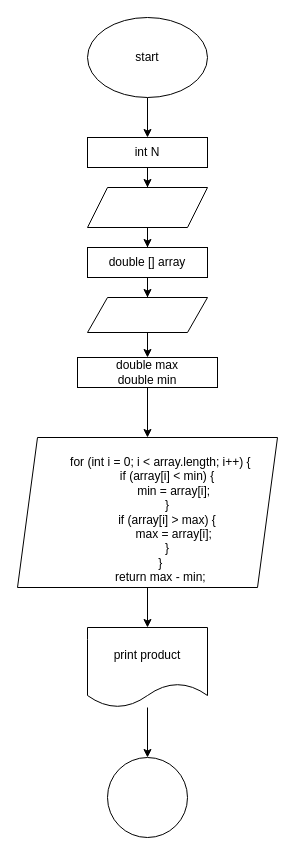
Image size: 295x855. Some labels were removed from this diagram. The shapes that lost their labels are listed below. From the top down, each one's centre as x and y in pixels, then its label:
At (x=147, y=207): "N = sc.nextInt()".
At (x=147, y=314): "filllArray".
At (x=147, y=797): "end".
